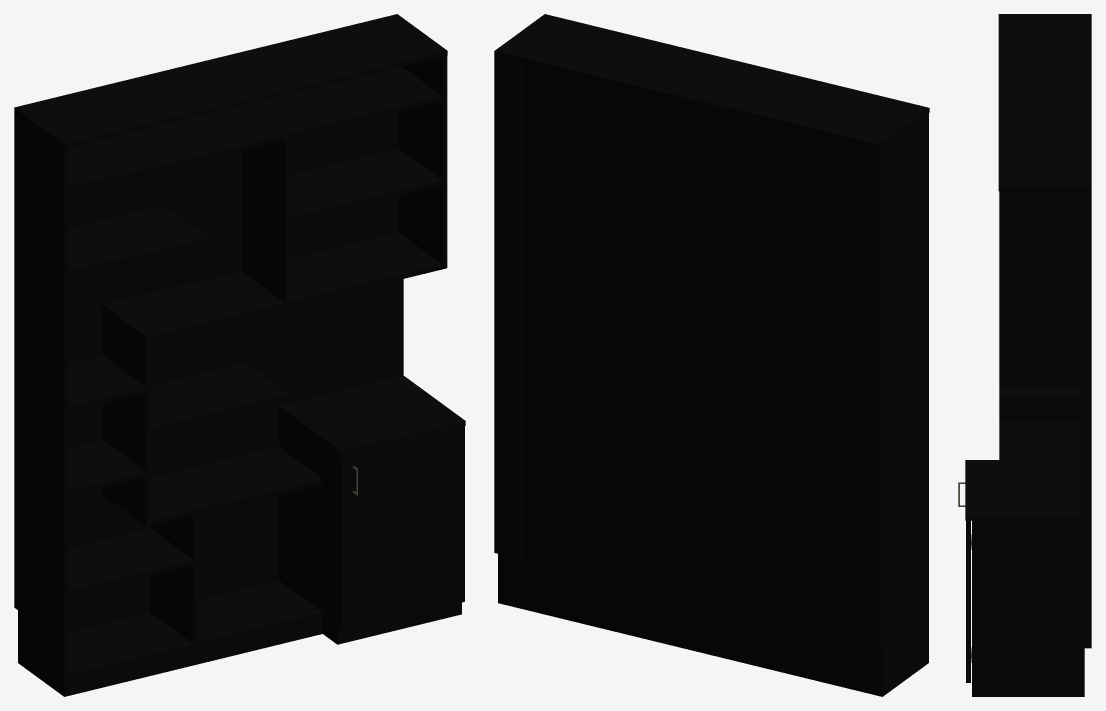
The model's file is wallunit.glb.
3 views of the same model, side by side, from view 1: azimuth 30°, elevation 25°; view 2: azimuth 150°, elevation 25°; view 3: azimuth 270°, elevation 25° (orthographic). The views are drawn at different scales.
Parts seen in each view (by area): view 1: Entity_519E1, Entity_519D2, Entity_519FB, Entity_519DE, Entity_51A27, Entity_51A12, Entity_519DB, Entity_519EF, Entity_519E7, Entity_51A0C, Entity_519D8, Entity_51A1E (+10 smaller); view 2: Entity_519E1, Entity_519D2, Entity_519DE, Entity_519F8; view 3: Entity_519EA, Entity_519DE, Entity_519D8, Entity_519E7, Entity_519F8, Entity_51A0C, Entity_519E1, Entity_51A0F, Entity_51A15, Entity_519FB, Entity_51A12.
Boxes of the visible parts, left/top/right/bottom form: Entity_519E1: left=69, top=112, right=403, bottom=631; Entity_519D2: left=14, top=113, right=68, bottom=696; Entity_519FB: left=338, top=426, right=464, bottom=631; Entity_519DE: left=14, top=14, right=447, bottom=148; Entity_51A27: left=69, top=67, right=442, bottom=192; Entity_51A12: left=102, top=232, right=447, bottom=341; Entity_519DB: left=69, top=580, right=322, bottom=679; Entity_519EF: left=279, top=411, right=342, bottom=644; Entity_519E7: left=279, top=375, right=465, bottom=456; Entity_51A0C: left=102, top=447, right=322, bottom=526; Entity_519D8: left=398, top=56, right=447, bottom=264; Entity_51A1E: left=241, top=138, right=289, bottom=302; Entity_519E1: left=498, top=63, right=877, bottom=695; Entity_519D2: left=874, top=113, right=928, bottom=696; Entity_519DE: left=494, top=14, right=929, bottom=149; Entity_519F8: left=494, top=56, right=523, bottom=558; Entity_519EA: left=972, top=520, right=1079, bottom=696; Entity_519DE: left=998, top=14, right=1091, bottom=191; Entity_519D8: left=999, top=191, right=1079, bottom=382; Entity_519E7: left=965, top=460, right=1079, bottom=520; Entity_519F8: left=1084, top=191, right=1091, bottom=648; Entity_51A0C: left=999, top=420, right=1079, bottom=459; Entity_519E1: left=1079, top=191, right=1084, bottom=696; Entity_51A0F: left=999, top=402, right=1079, bottom=420; Entity_51A15: left=999, top=387, right=1079, bottom=401; Entity_519FB: left=966, top=520, right=970, bottom=682; Entity_51A12: left=999, top=383, right=1079, bottom=387.
Size of the model in its own units: 1.54 by 2.13 by 0.5032.
3 materials, 2 textured.
